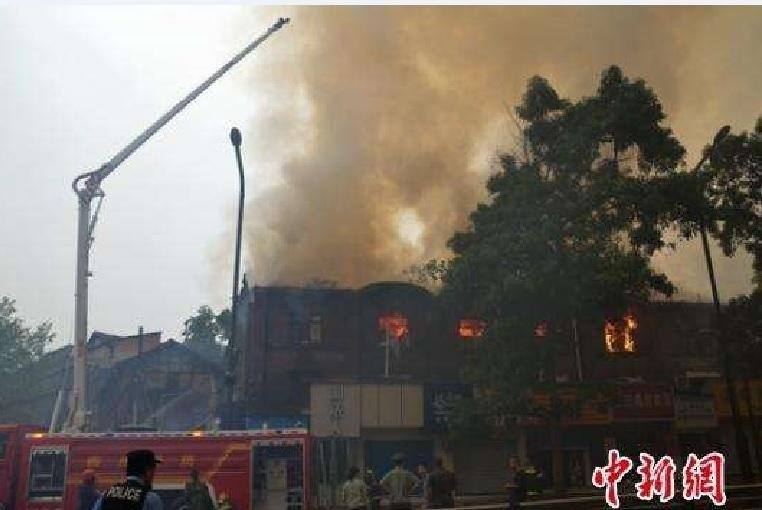fire: (600, 311, 637, 353), (378, 312, 407, 337), (456, 316, 484, 336)
